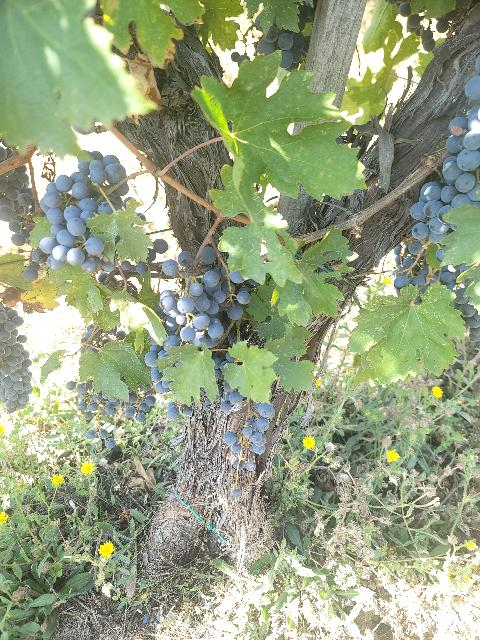grapes: (145, 246, 250, 366), (31, 151, 128, 272), (408, 110, 480, 255), (0, 306, 32, 412), (0, 165, 35, 246)
